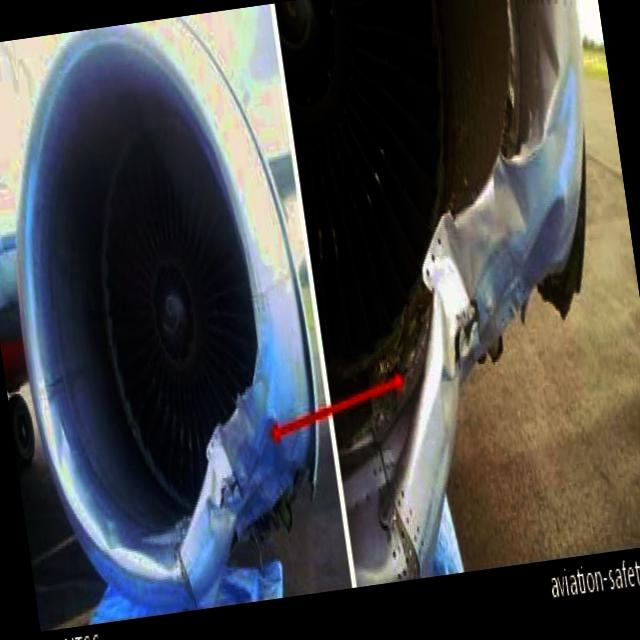dent: (522, 12, 581, 148), (492, 157, 538, 261)
